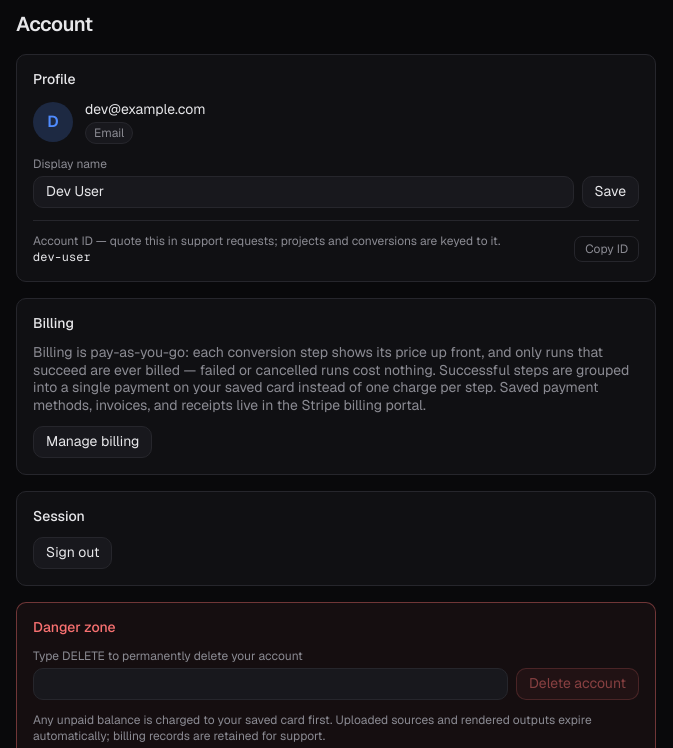
Test case: AccountScreen (mock mode) › copies the UID to the clipboard from the Copy ID button
This screenshot has width=673, height=748.
Click the button "Copy ID" at {"x": 607, "y": 248}, box x1=574 y1=236 x2=639 y2=262
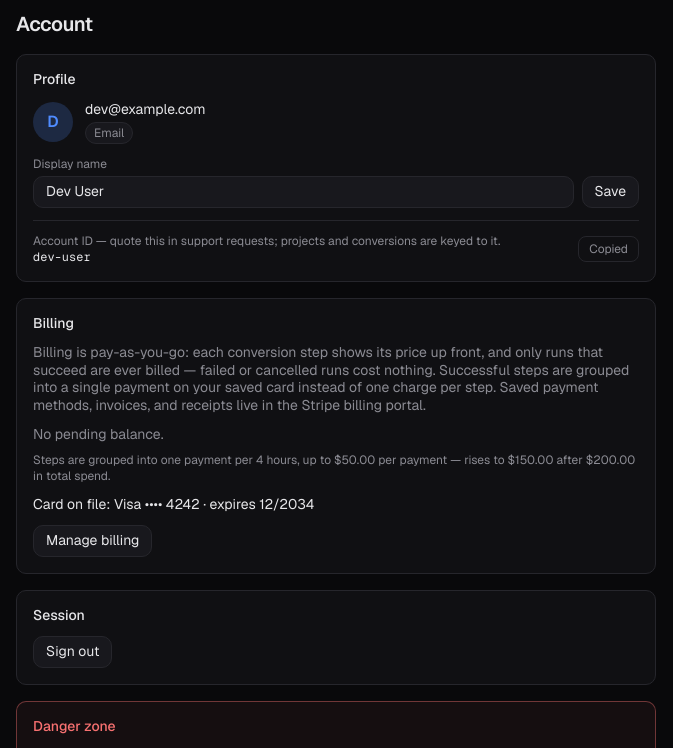
Now the button "Copied" is shown, box x1=578 y1=236 x2=639 y2=262
